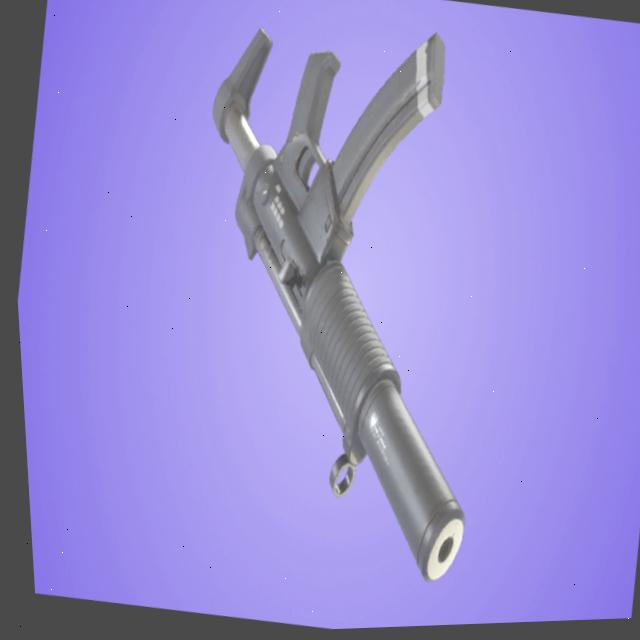firearm: (136, 0, 539, 597)
